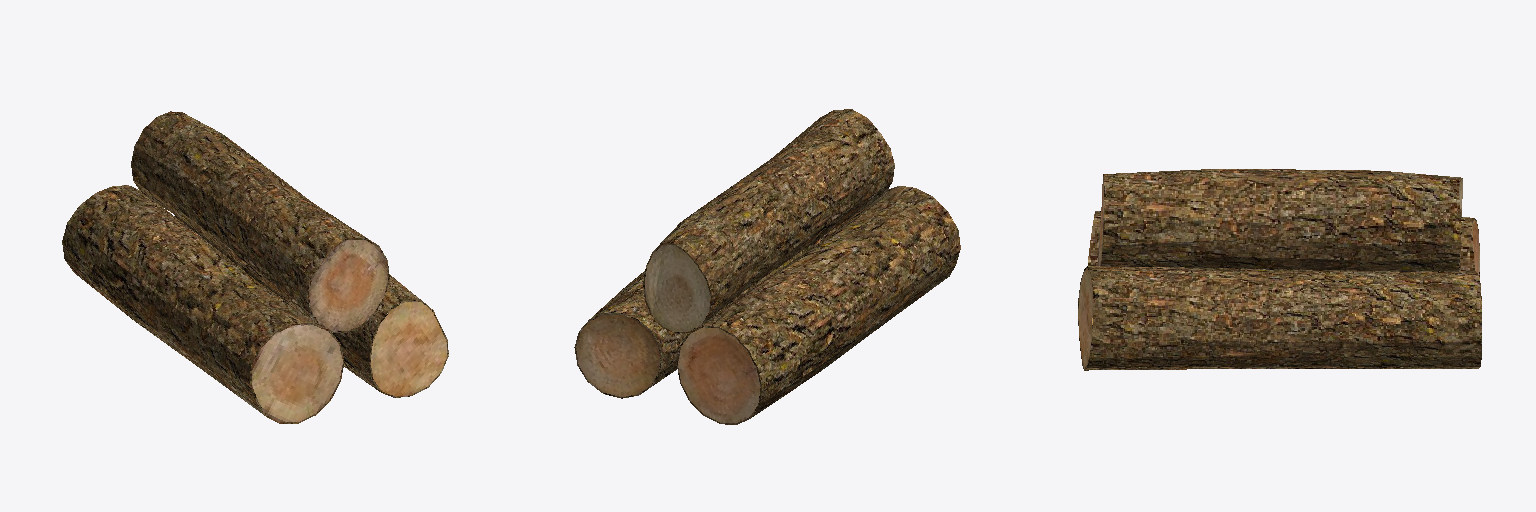
The picture shows the model from 3 angles: view 1: azimuth 30°, elevation 25°; view 2: azimuth 150°, elevation 25°; view 3: azimuth 270°, elevation 25°; orthographic projection.
Parts seen in each view (by area): view 1: Cylinder, Cylinder.002, Cylinder.001; view 2: Cylinder, Cylinder.002, Cylinder.001; view 3: Cylinder.001, Cylinder.002, Cylinder.
Boxes of the visible parts, x1=… form: Cylinder: x1=62, y1=185, x2=344, y2=423; Cylinder.002: x1=131, y1=111, x2=389, y2=332; Cylinder.001: x1=175, y1=215, x2=448, y2=397; Cylinder: x1=677, y1=186, x2=960, y2=424; Cylinder.002: x1=643, y1=109, x2=894, y2=333; Cylinder.001: x1=574, y1=216, x2=852, y2=398; Cylinder.001: x1=1078, y1=266, x2=1481, y2=370; Cylinder.002: x1=1098, y1=169, x2=1462, y2=271; Cylinder: x1=1088, y1=211, x2=1479, y2=276.
Bounding box in the file's own units: 40.25 × 31.81 × 69.89.
Materials: 1 (1 with a texture image).